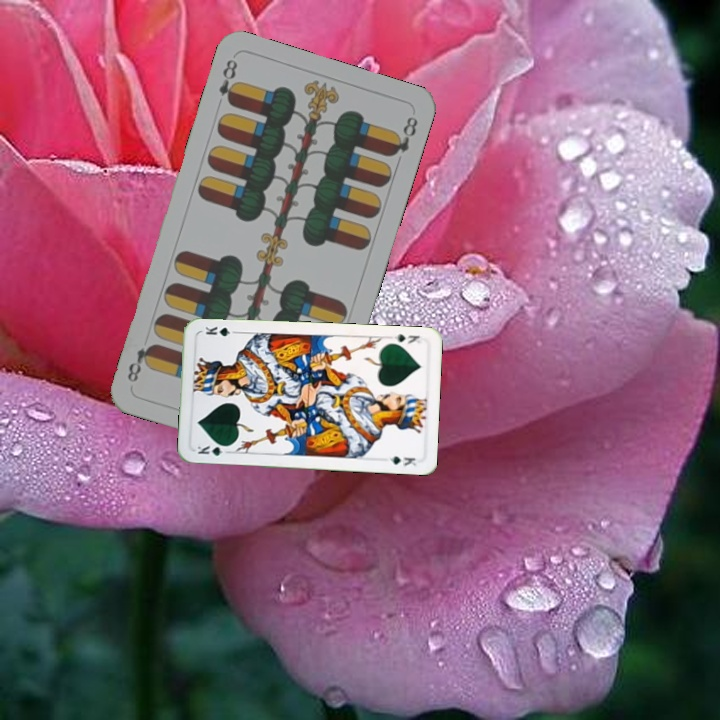E8: (214, 55, 242, 109)
GK: (193, 442, 233, 459), (390, 330, 425, 346)
